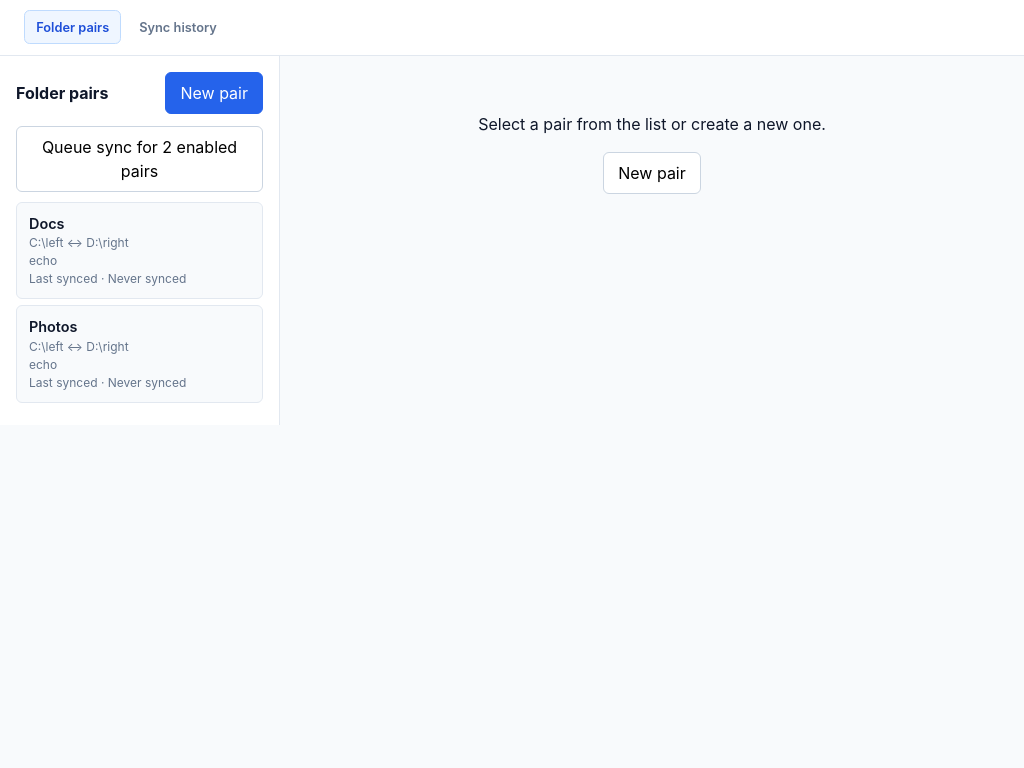
sync queue view › reports identical folders without a results button
Click the button "Docs C:\\left ↔ D:\\right echo Last synced · Never synced": (140, 251) [16, 202, 263, 299]
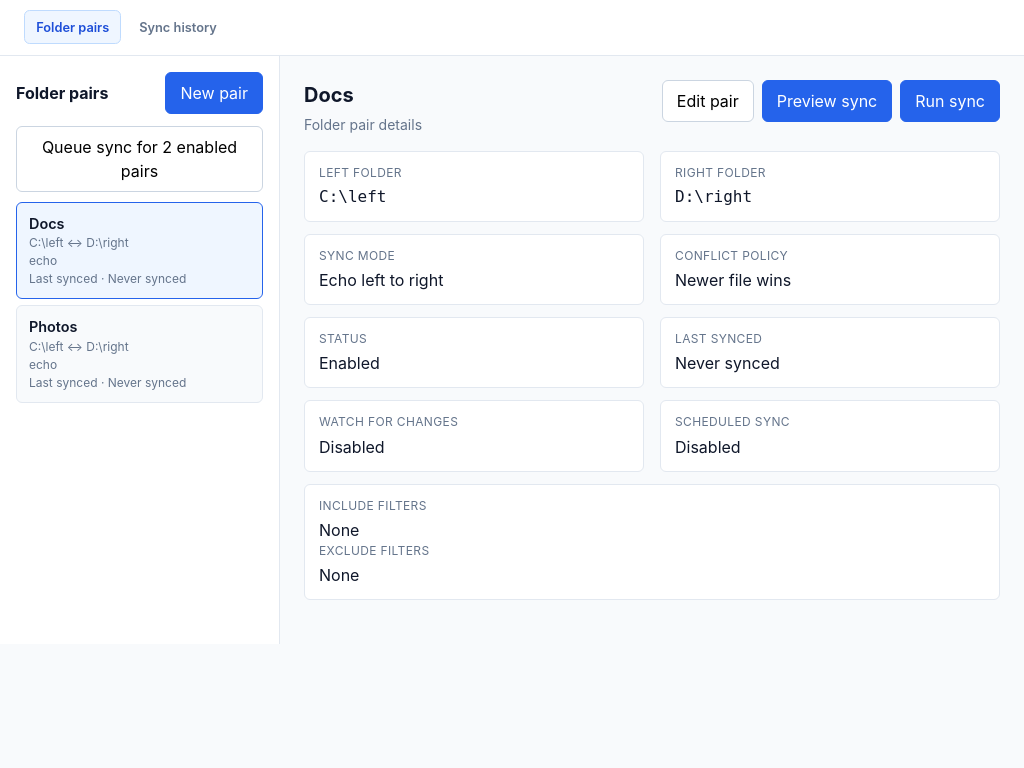
Click the button "Preview sync": (827, 101) [762, 80, 892, 122]
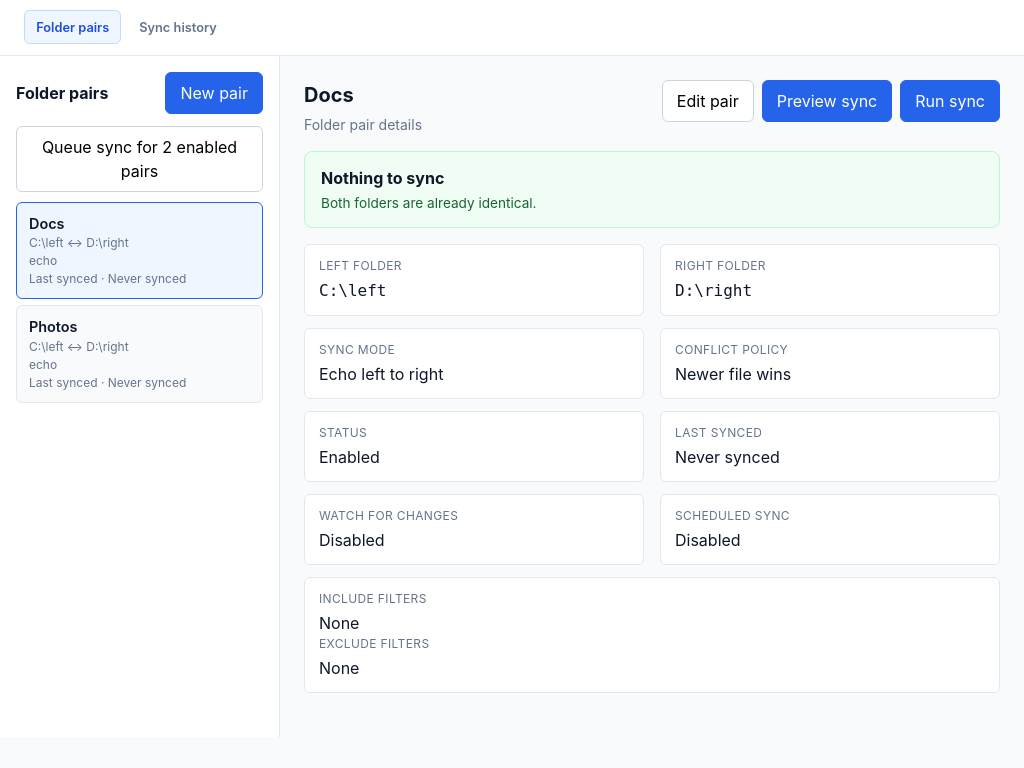
Now the text "Nothing to sync" is shown, box [321, 168, 444, 188]
Now the text "Both folders are already identical." is shown, box [321, 193, 536, 213]
